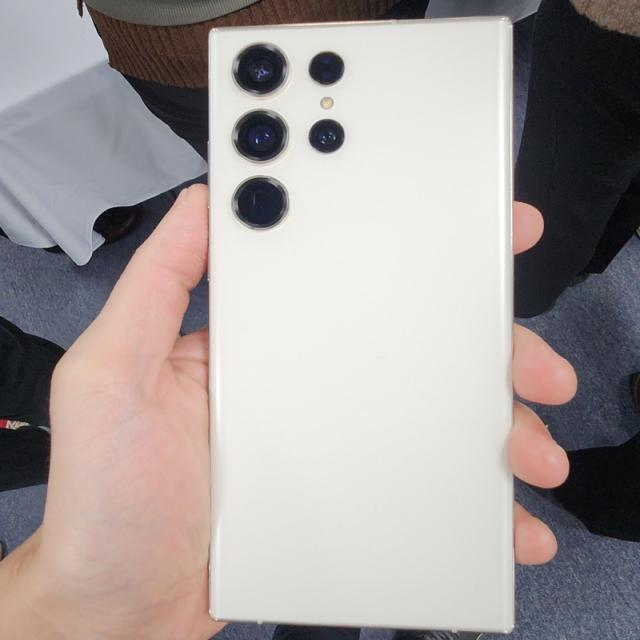lens: (226, 36, 349, 239)
phone: (206, 18, 513, 635)
